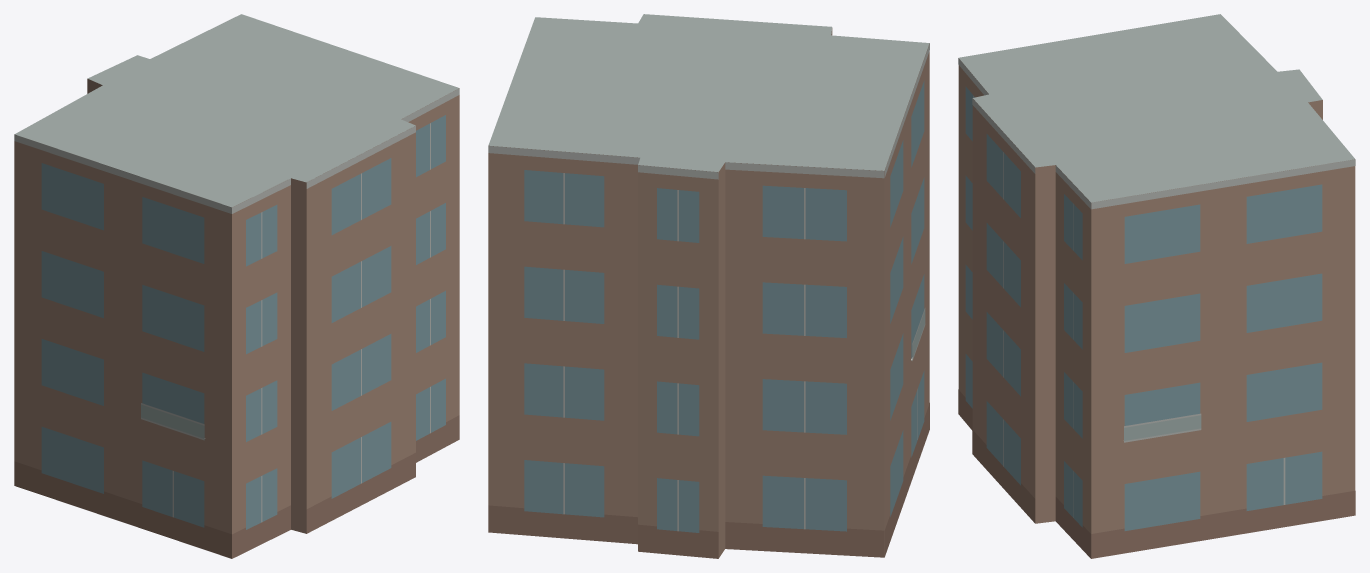
Rendered from survey-upis-33004059.glb.
3 renders of one model, left to right at view 1: azimuth 30°, elevation 25°; view 2: azimuth 150°, elevation 25°; view 3: azimuth 270°, elevation 25°, orthographic. The views are drawn at different scales.
Visible parts, largest first — view 1: survey-upis-33004059.tmp; view 2: survey-upis-33004059.tmp; view 3: survey-upis-33004059.tmp.
Boxes of the visible parts, <box> form: survey-upis-33004059.tmp: <box>14,14,459,558</box>; survey-upis-33004059.tmp: <box>488,14,929,558</box>; survey-upis-33004059.tmp: <box>958,14,1355,558</box>.
Size of the model in its own units: 14.54 by 12.8 by 12.94.
